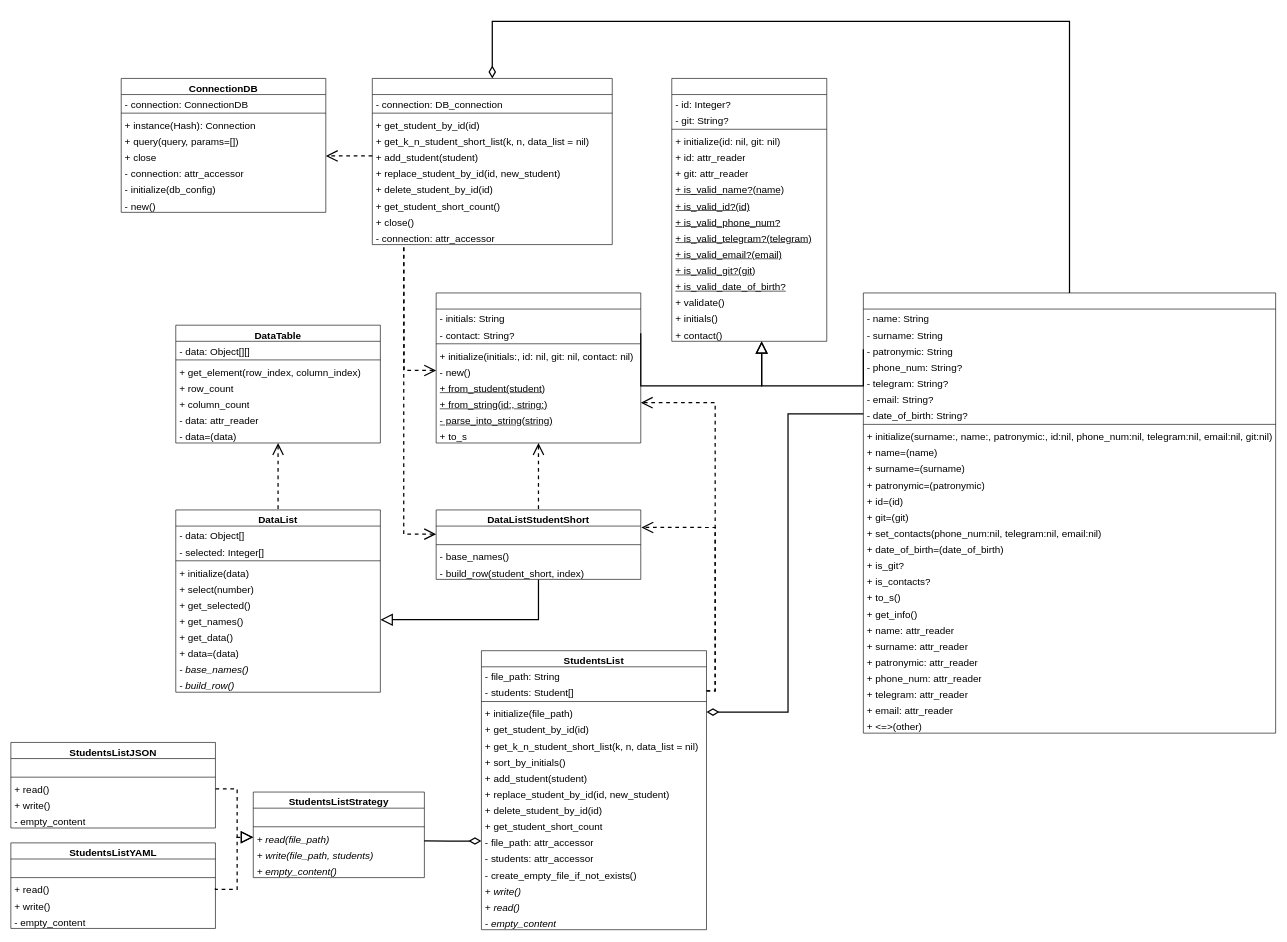
Image size: 1287x942. Some labels were removed from this diagram. The box of each missing label's shape, as (x1, y1, x2, y2) in pixels:
Person: (671, 78, 827, 341)
Student: (863, 292, 1276, 733)
StudentListDB: (372, 78, 612, 245)
StudentShort: (436, 292, 641, 443)
